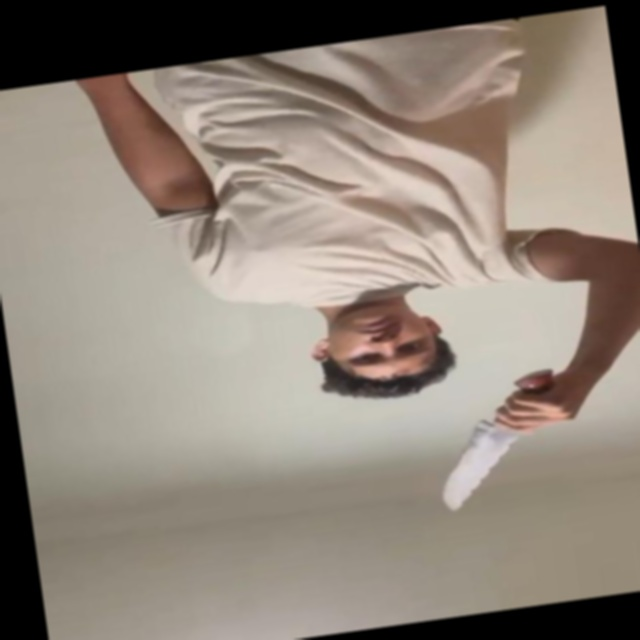Sharp-Object: (432, 424, 530, 513)
